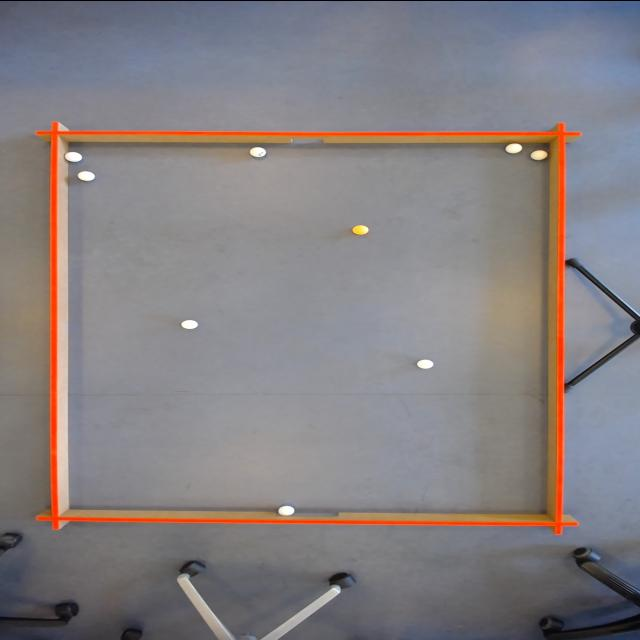orange_ball: (350, 222, 372, 236)
white_ball: (502, 141, 526, 153), (276, 503, 298, 516), (63, 150, 85, 162), (248, 145, 269, 157), (529, 148, 549, 160), (180, 317, 200, 329), (416, 357, 436, 369), (77, 170, 97, 180)
